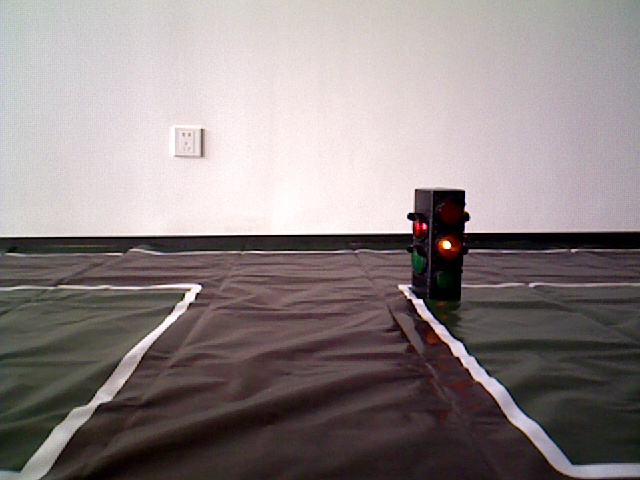yellow: (413, 193, 463, 291)
